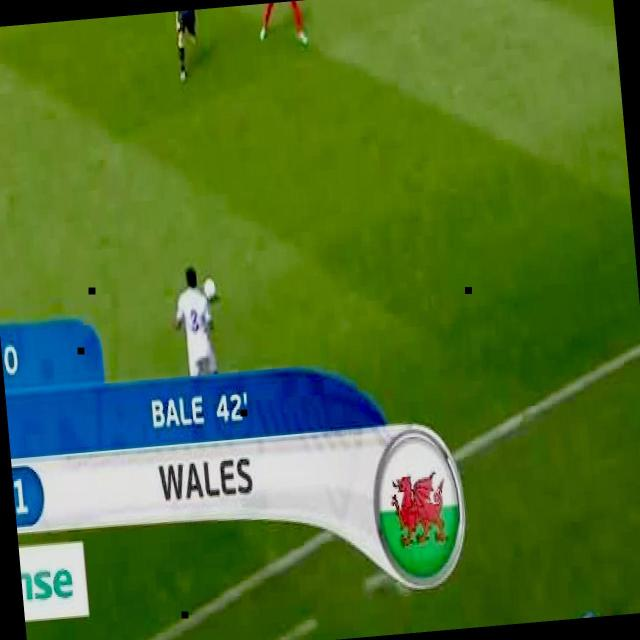ball: (204, 277, 217, 301)
player-white: (171, 267, 218, 384), (258, 0, 307, 49), (172, 10, 204, 84)
